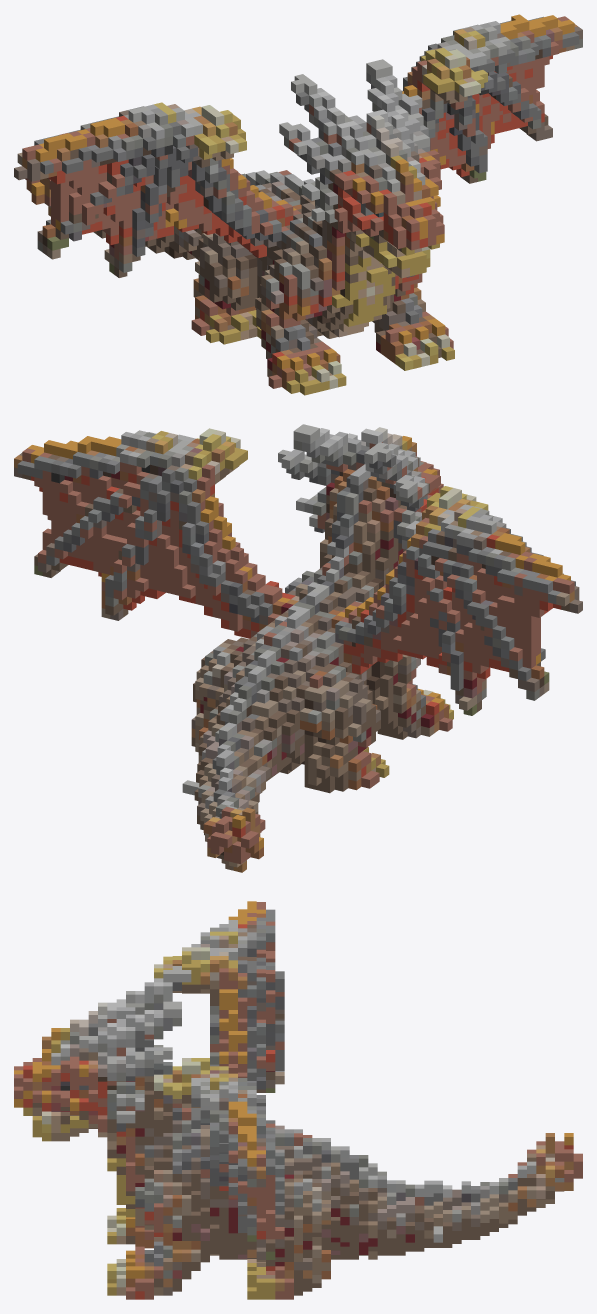
The model's file is dragonos_voxel.glb.
3 renders of one model, top to bottom at view 1: azimuth 30°, elevation 25°; view 2: azimuth 150°, elevation 25°; view 3: azimuth 270°, elevation 25°, orthographic. The views are drawn at different scales.
Bounding box in the file's own units: 67 × 32 × 61.
